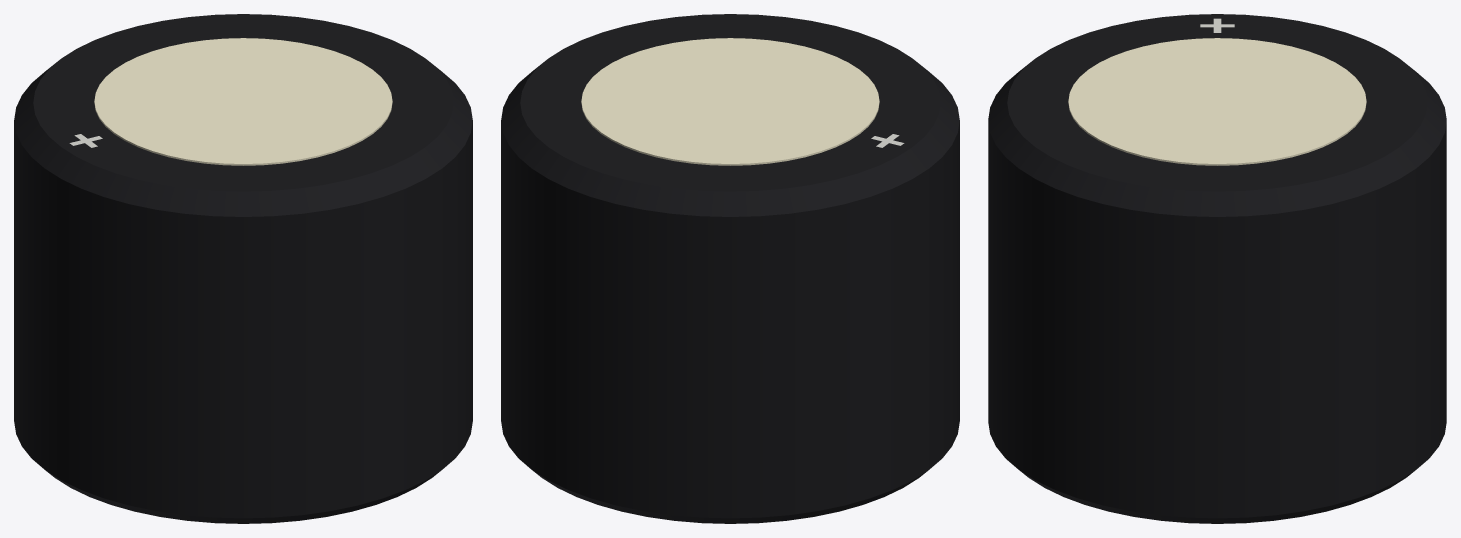
File: active-buzzer.glb
3 views of the same model, side by side, from view 1: azimuth 30°, elevation 25°; view 2: azimuth 150°, elevation 25°; view 3: azimuth 270°, elevation 25° (orthographic).
Parts seen in each view (by area): view 1: body; view 2: body; view 3: body.
Boxes of the visible parts, x1,y1,x2,y2 form: body: (14, 14, 472, 523); body: (501, 14, 959, 523); body: (988, 14, 1446, 523).
Bounding box in the file's own units: 12 × 9.55 × 12.
